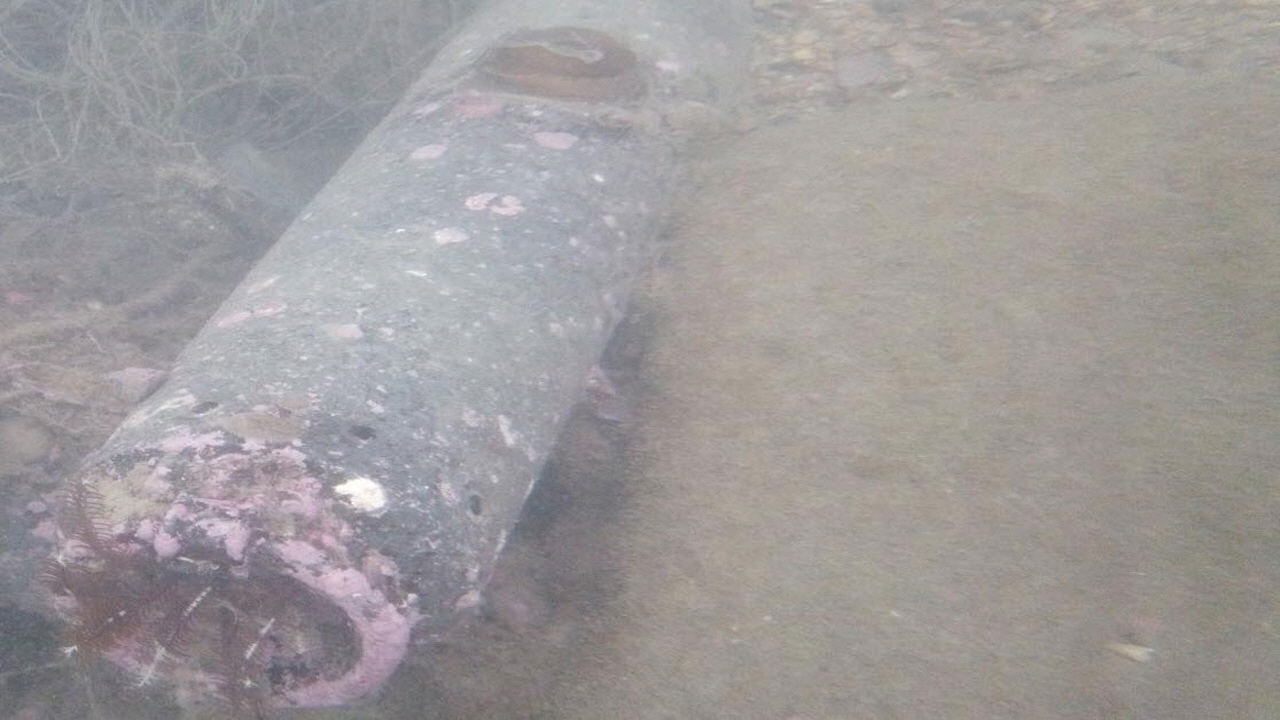eel fish trap: (43, 0, 731, 719)
